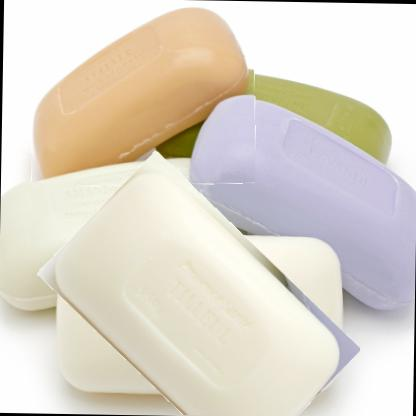soap: (44, 185, 356, 415), (26, 3, 258, 189)
